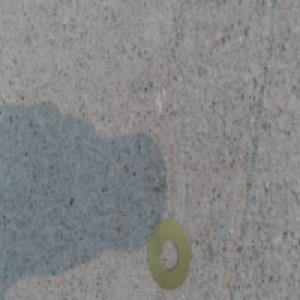Washer: (148, 219, 190, 288)
